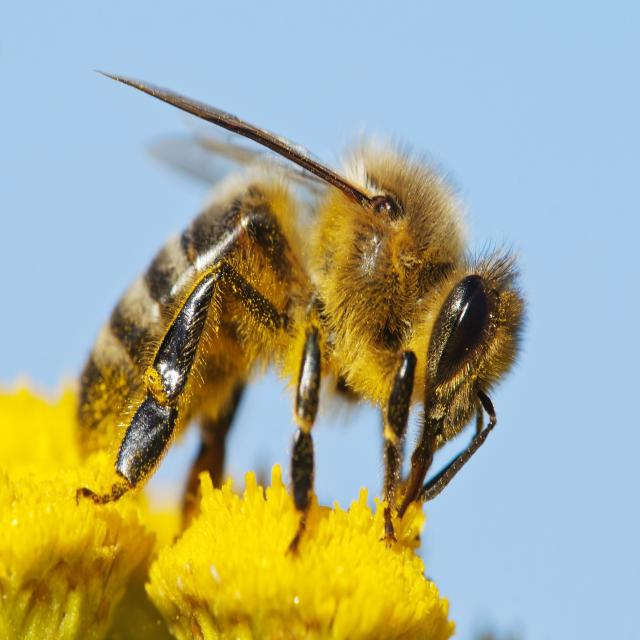Apis-mellifera-scutellata: (58, 36, 534, 574)
